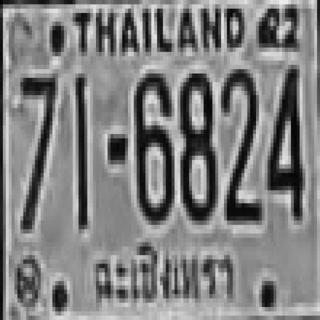N01: (74, 74, 89, 220)
N02: (222, 67, 258, 218), (221, 67, 256, 210)
N04: (265, 61, 303, 216)
N06: (134, 69, 172, 220)
N07: (19, 71, 57, 227), (20, 74, 55, 173)
N08: (177, 69, 215, 220)
P07: (88, 241, 238, 308)
